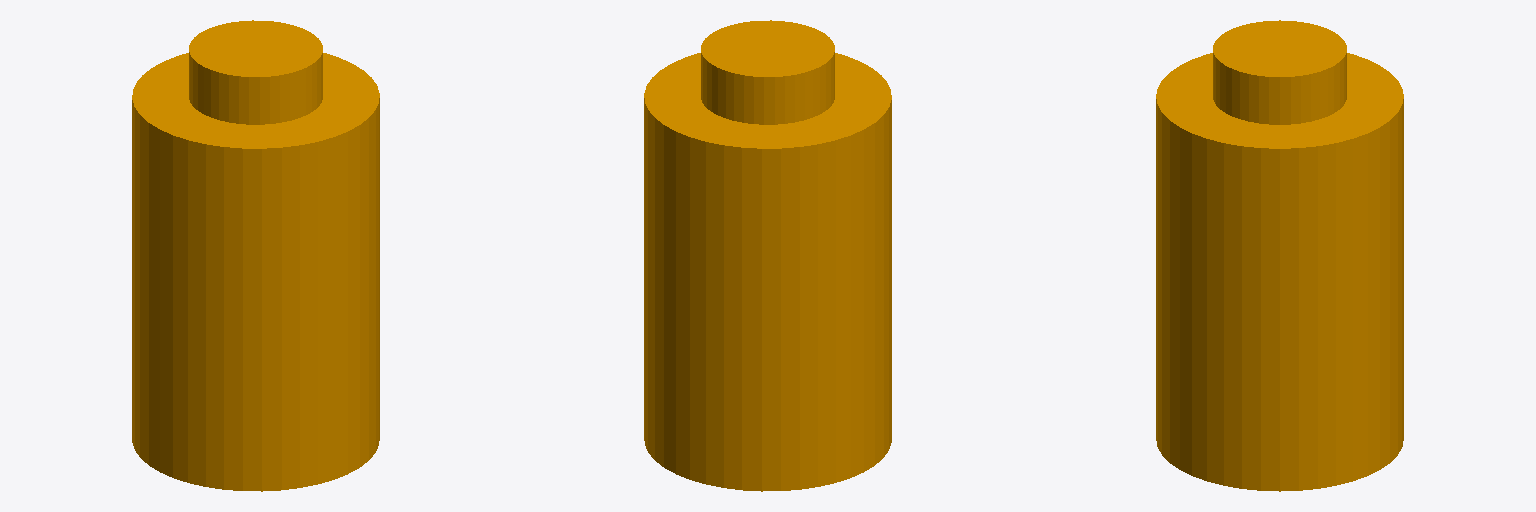
URDF robot description (screw_body_3):
<?xml version='1.0' encoding='utf-8'?>
<robot name="screw_body_3">
  <link name="body">
    <inertial>
      <origin xyz="9.81578447933763e-19 -4.3933202779766655e-18 0.0940234291146616" />
      <mass value="0.5" />
      <inertia ixx="0.0019174706620743772" iyy="0.0019174706620743772" izz="0.0008426664071987413" ixy="-8.173626978165405e-21" ixz="8.852220030218447e-20" iyz="-2.0307821156167876e-19" />
    </inertial>
    <collision>
      <geometry>
        <mesh filename="part_00.obj" />
      </geometry>
    </collision>
    <collision>
      <geometry>
        <mesh filename="part_01.obj" />
      </geometry>
    </collision>
    <visual>
      <geometry>
        <mesh filename="visual.obj" />
      </geometry>
    </visual>
  </link>
</robot>

--- What the picture shows (computed from the rendered views, not written in the file) ---
3 views of the same robot in one strip: view 1: azimuth 30°, elevation 25°; view 2: azimuth 150°, elevation 25°; view 3: azimuth 270°, elevation 25° (orthographic).
Model screw_body_3 with 1 links and 0 joints (none), rooted at body, posed every joint at zero.
Visible links, largest first — view 1: body; view 2: body; view 3: body.
Boxes of the visible links, x1,y1,x2,y2 form: body: (132,20,379,491); body: (644,20,891,491); body: (1156,20,1403,491).
Size in the robot's own frame: 0.118 by 0.118 by 0.205 metres.
1 mesh visuals loaded from 1 distinct referenced files (1 OBJ).
